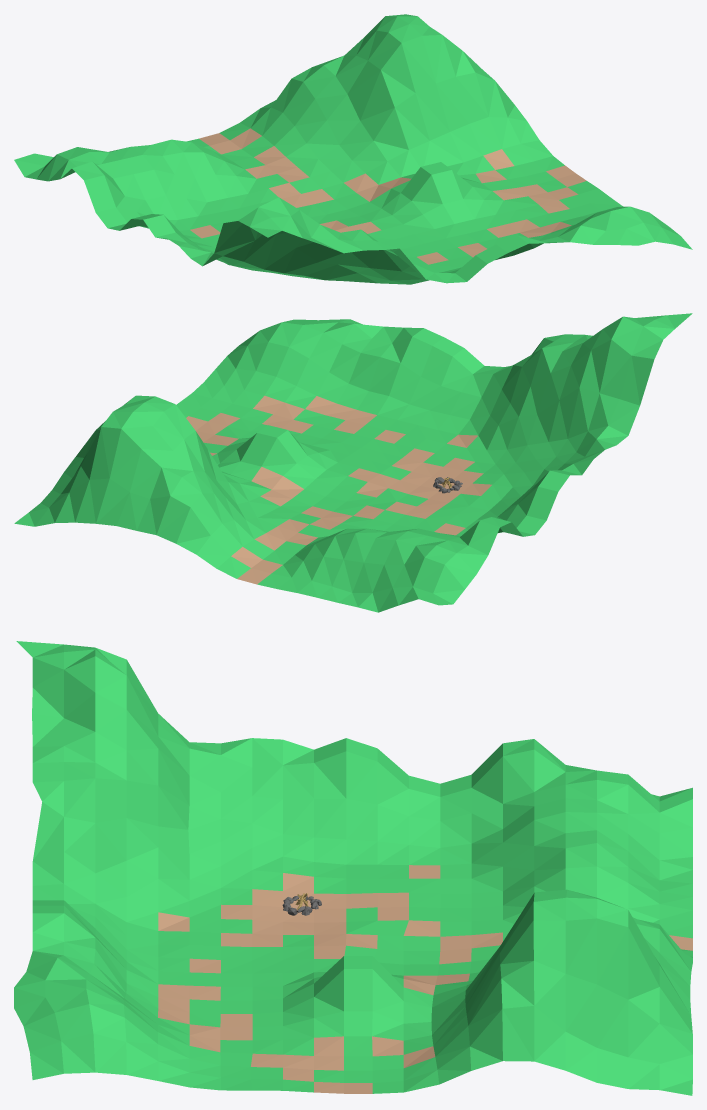
Rendered from Land7.fbx.
The picture shows the model from 3 angles, top to bottom: view 1: azimuth 30°, elevation 25°; view 2: azimuth 150°, elevation 25°; view 3: azimuth 270°, elevation 25°; orthographic projection. The views are drawn at different scales.
Parts seen in each view (by area): view 1: Campfire; view 2: Campfire; view 3: Campfire.
Part boxes in pixels (x1,y1,x2,y2): Campfire: [14, 14, 692, 284]; Campfire: [14, 313, 692, 612]; Campfire: [14, 641, 692, 1095].
Size of the model in its own units: 3547 by 3613 by 1135.
